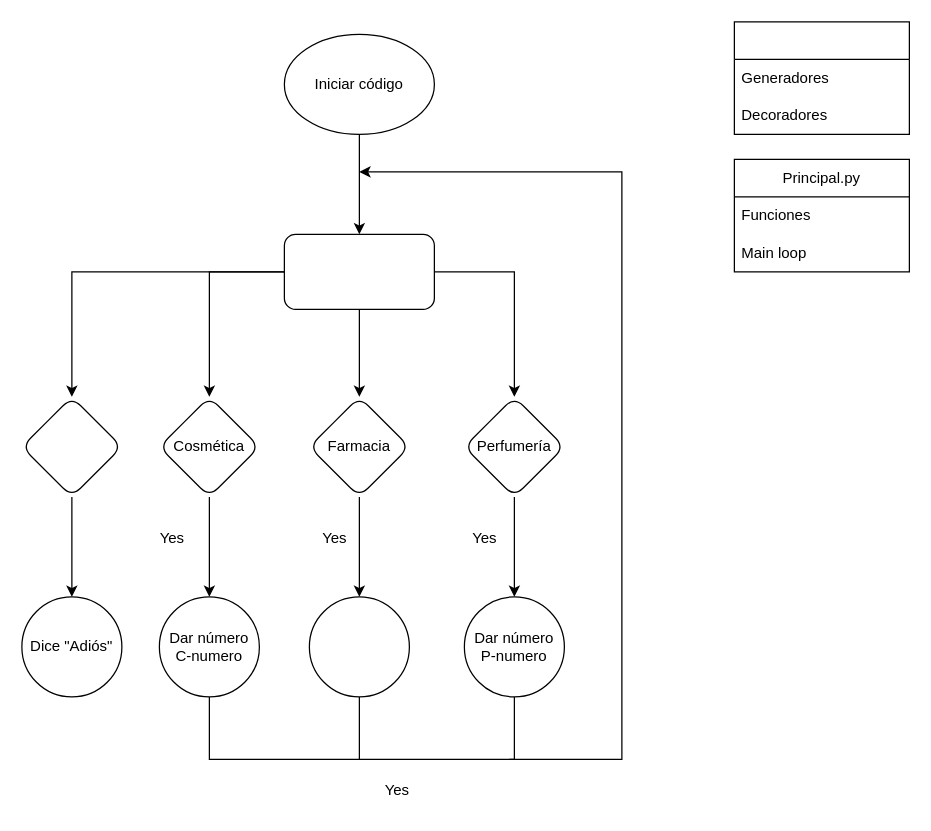
The diagram is 931 pixels wide and 831 high, and some of its shapes have lost their labels. Each missing label, with the box of its shape:
Dar número F-numero: (308, 596, 409, 697)
Numero.py: (733, 21, 909, 134)
Preguntar al cliente: (283, 233, 434, 309)
Salir: (21, 396, 122, 497)
